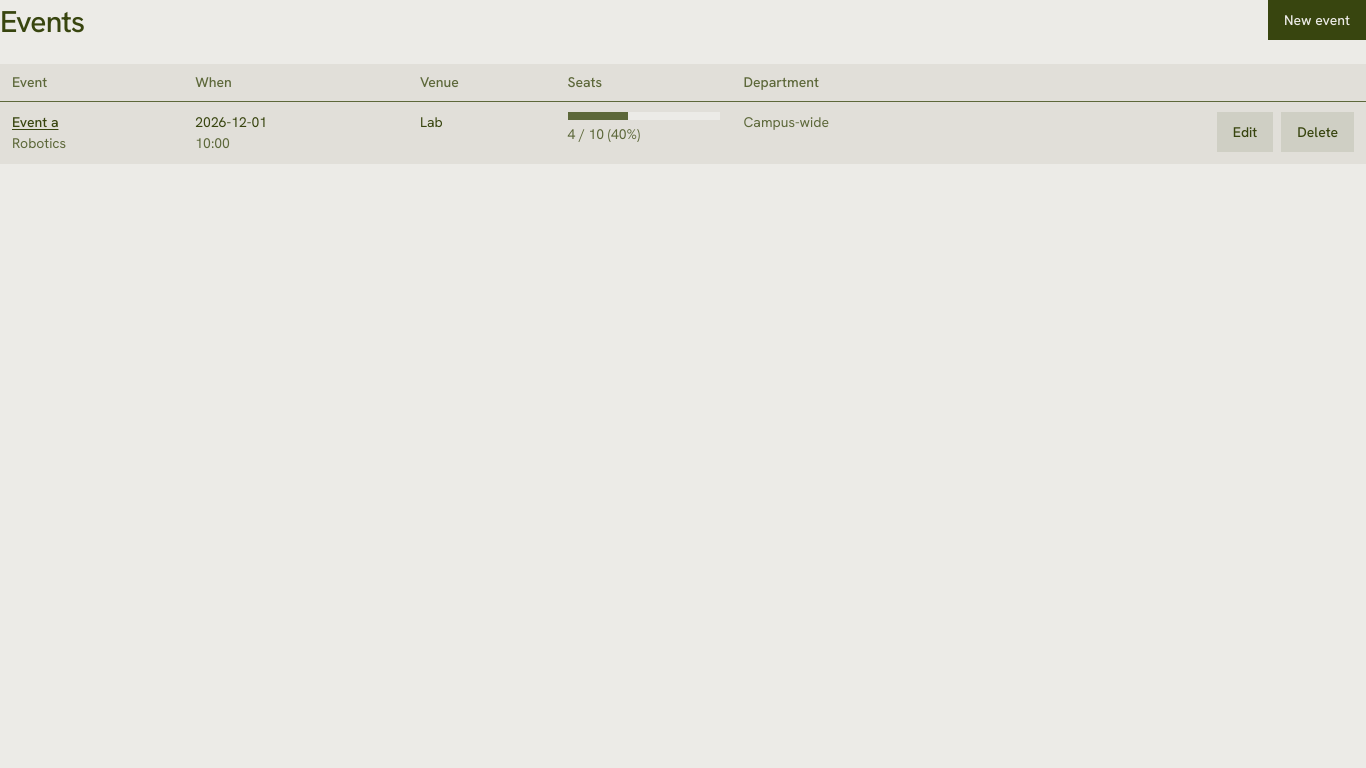
Test: the admin events page › shows another kind of failure inside the dialog
Step 1. Click the button with aria-label "Delete Event a" → (1318, 132), box [1281,112,1354,152]
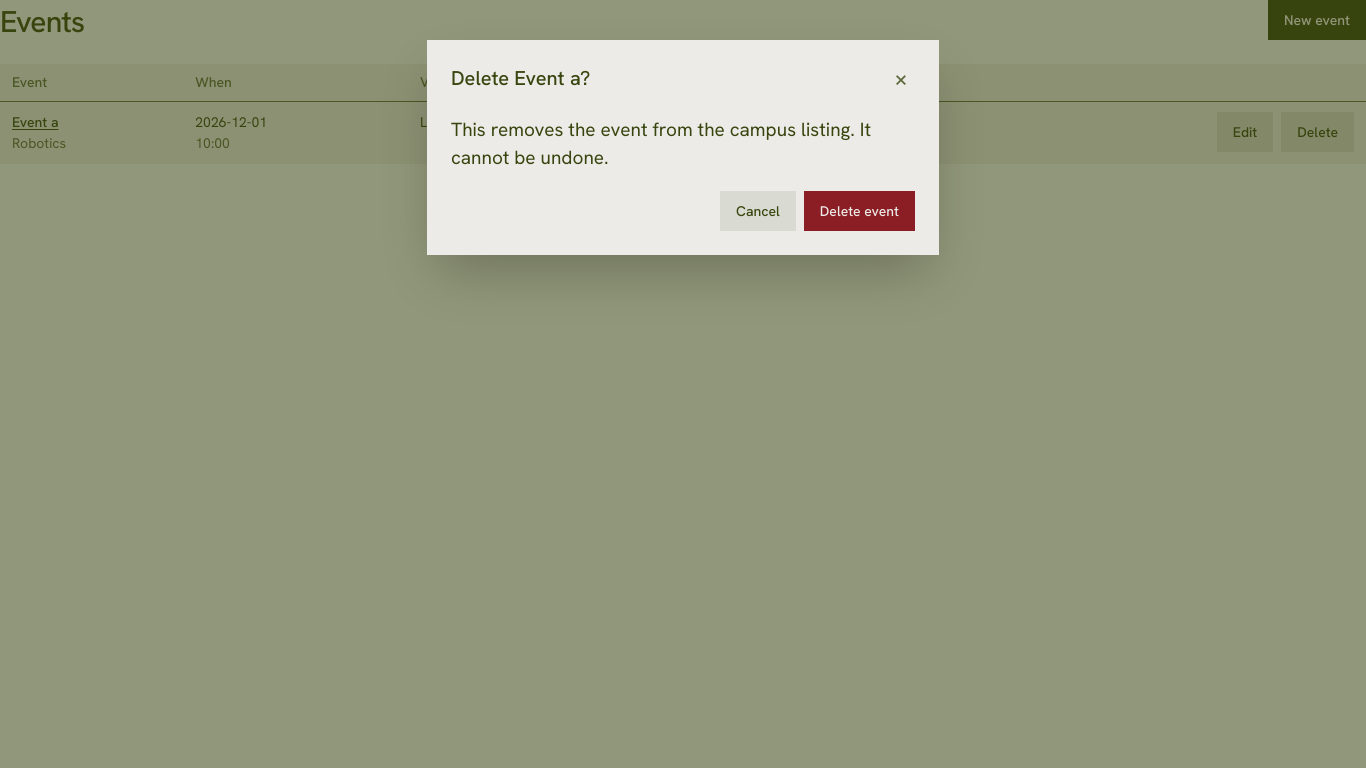
Step 2. Click the button "Delete event" → (859, 211), box [804,191,915,231]
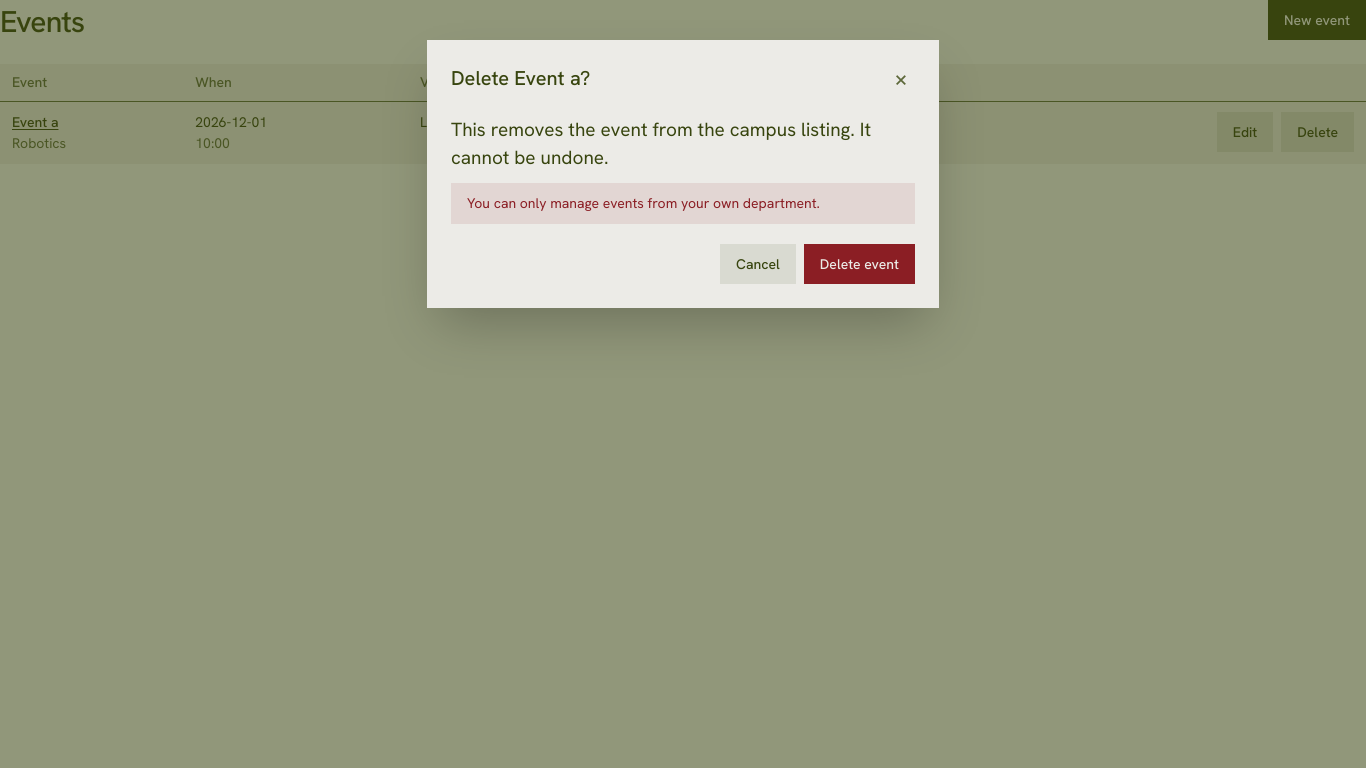
Check: the message shows "only manage events", box [467,194,820,212]
